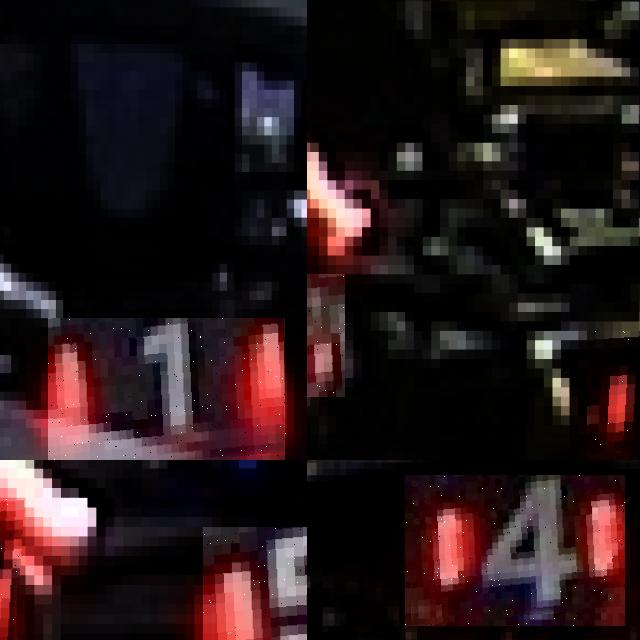R1: (48, 318, 286, 460)
R2: (587, 330, 640, 453), (307, 274, 344, 396)
R4: (405, 475, 625, 626)
R5: (203, 526, 307, 640)
